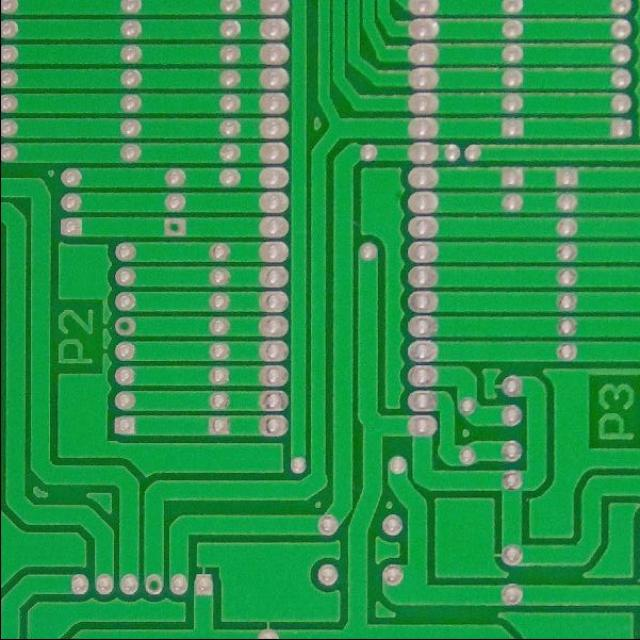Missing_Hole: (113, 313, 137, 338), (162, 214, 186, 239), (142, 572, 164, 596)
